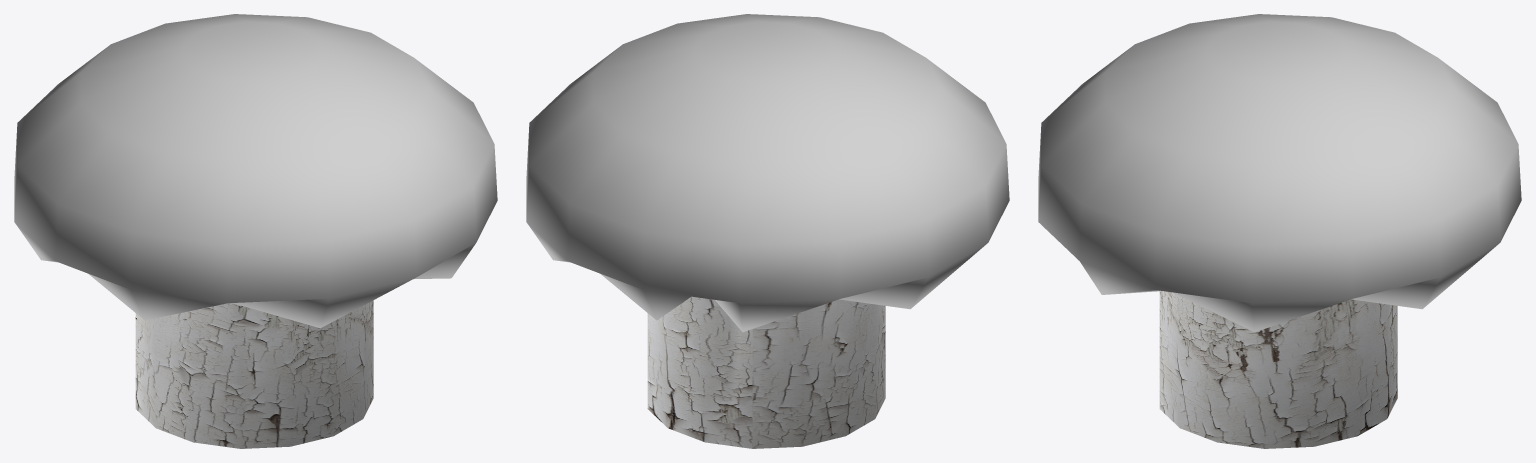
The model's file is sieni.fbx.
3 views of the same model, side by side, from view 1: azimuth 30°, elevation 25°; view 2: azimuth 150°, elevation 25°; view 3: azimuth 270°, elevation 25° (orthographic).
Visible parts, largest first — view 1: Circle; view 2: Circle; view 3: Circle.
Part boxes in pixels (left/top/right/bottom): Circle: left=14, top=14, right=497, bottom=448; Circle: left=526, top=14, right=1009, bottom=448; Circle: left=1038, top=14, right=1521, bottom=448.
Bounding box in the file's own units: 4.04 × 3.18 × 4.02.
